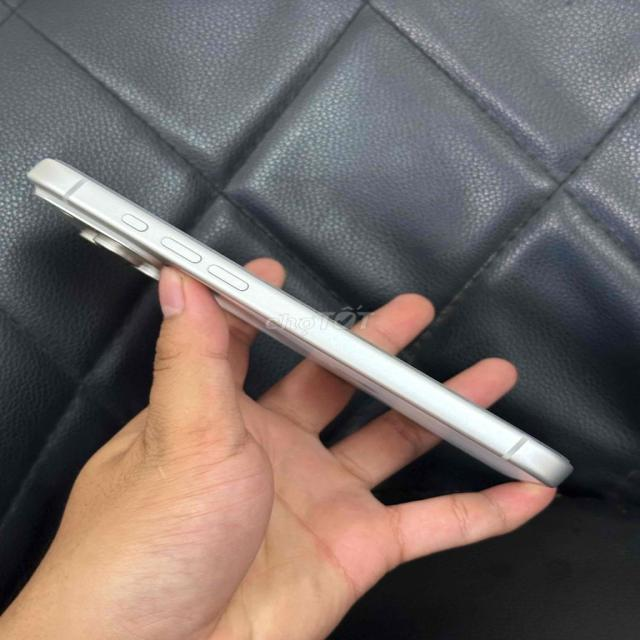gen_17: (28, 158, 572, 486)
